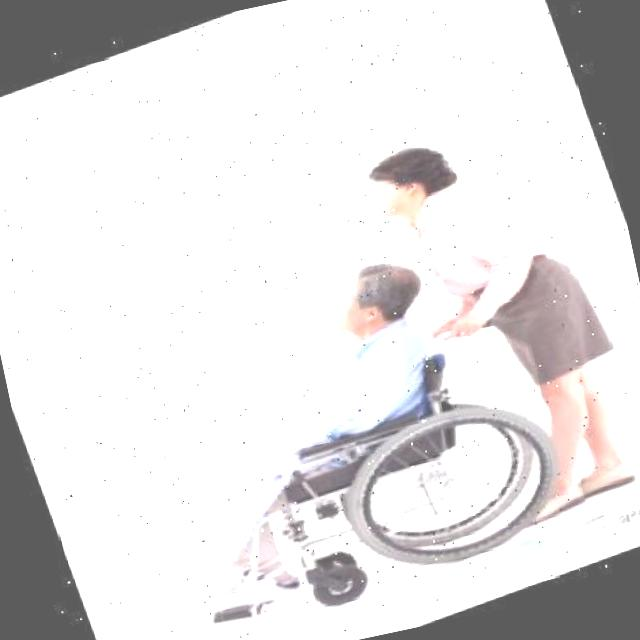Person: (103, 213, 586, 640), (353, 87, 640, 548)
